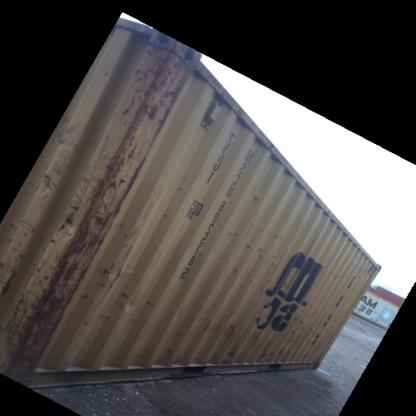Damage: (48, 145, 145, 249), (1, 257, 82, 373), (113, 46, 189, 136), (90, 247, 140, 306), (204, 312, 274, 344)
